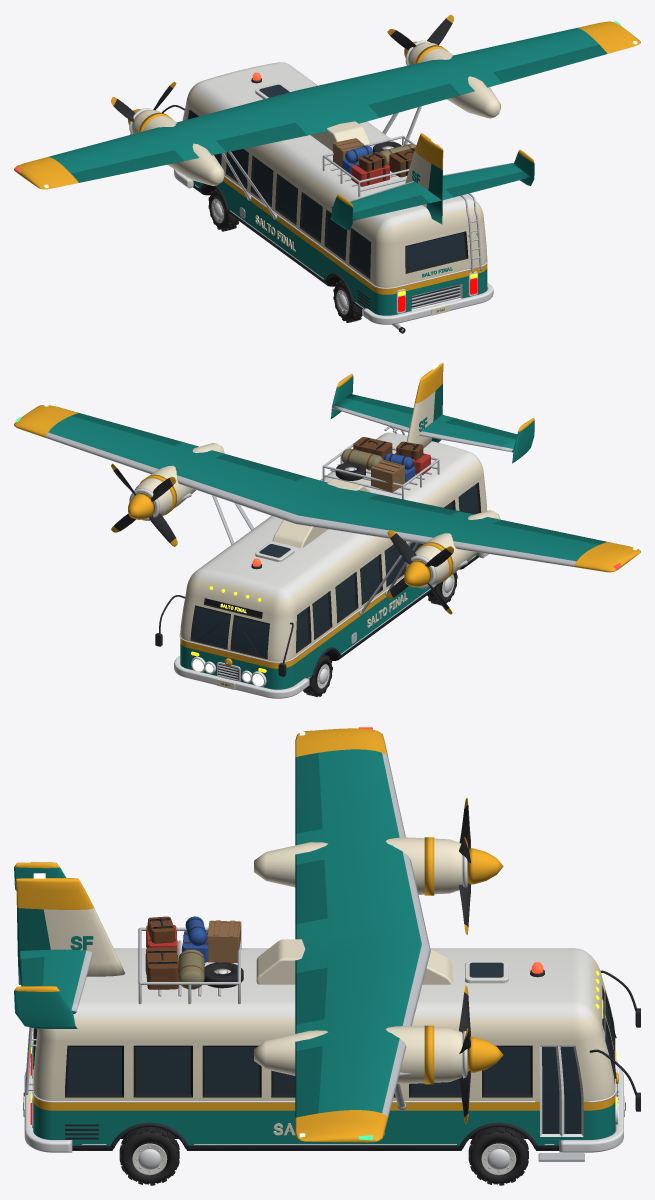
Rendered from bus.glb.
The picture shows the model from 3 angles, top to bottom: view 1: azimuth 30°, elevation 25°; view 2: azimuth 150°, elevation 25°; view 3: azimuth 270°, elevation 25°; orthographic projection. The views are drawn at different scales.
Visible parts, largest first — view 1: Carroceria, Helice_D, Helice_I; view 2: Carroceria, Helice_D, Helice_I; view 3: Carroceria, Helice_D, Helice_I.
Part boxes in pixels (x1,y1,x2,y2): Carroceria: (14, 21, 640, 333); Helice_D: (387, 14, 453, 57); Helice_I: (111, 82, 176, 134); Carroceria: (14, 362, 640, 698); Helice_D: (111, 463, 177, 546); Helice_I: (387, 530, 453, 614); Carroceria: (14, 727, 640, 1185); Helice_D: (459, 985, 503, 1124); Helice_I: (459, 798, 503, 934).
Size of the model in its own units: 20.04 by 6.3 by 12.93.
